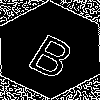B: (25, 25, 83, 81)
